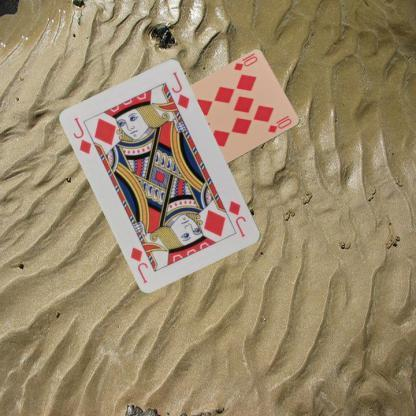10d: (231, 53, 258, 72)
Jd: (71, 115, 94, 156), (226, 198, 248, 239)
